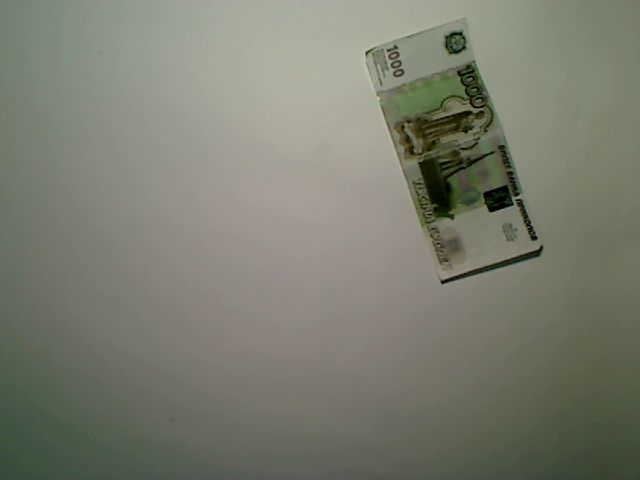banknotes: (358, 14, 547, 288)
